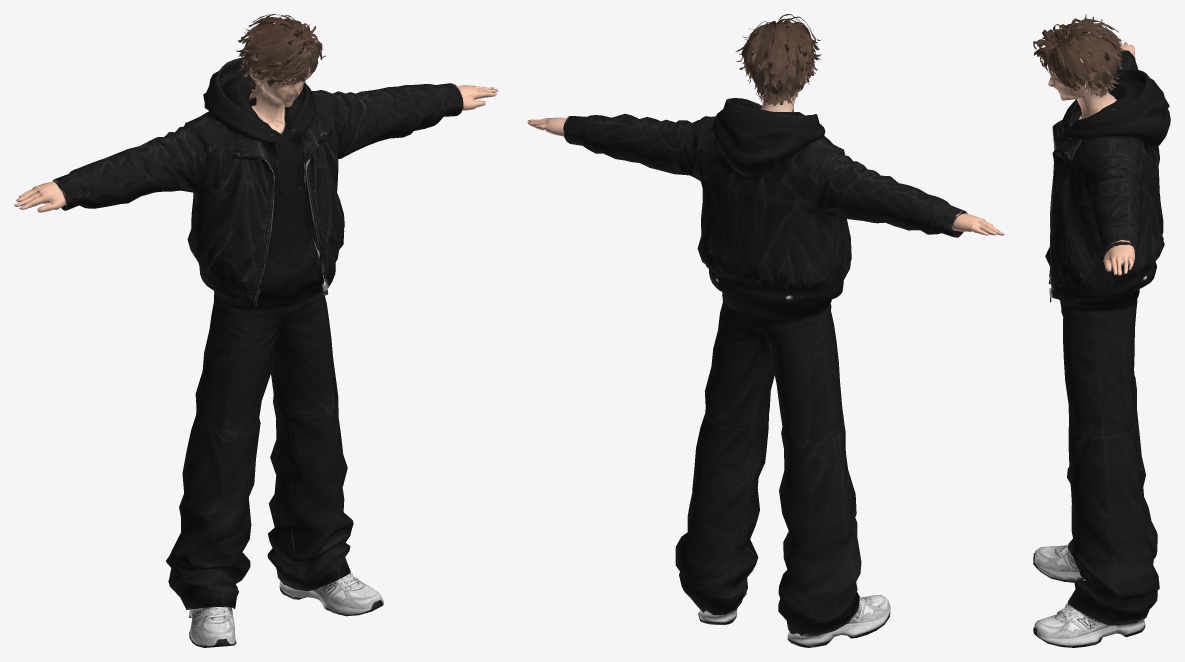
File: artem.glb
3 renders of one model, left to right at view 1: azimuth 30°, elevation 25°; view 2: azimuth 150°, elevation 25°; view 3: azimuth 270°, elevation 25°, orthographic. The views are drawn at different scales.
Size of the model in its own units: 0.8013 by 0.9507 by 0.2017.
1 material, 1 textured.
